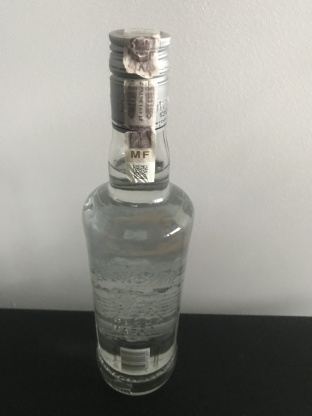nakretka: (107, 24, 172, 136)
